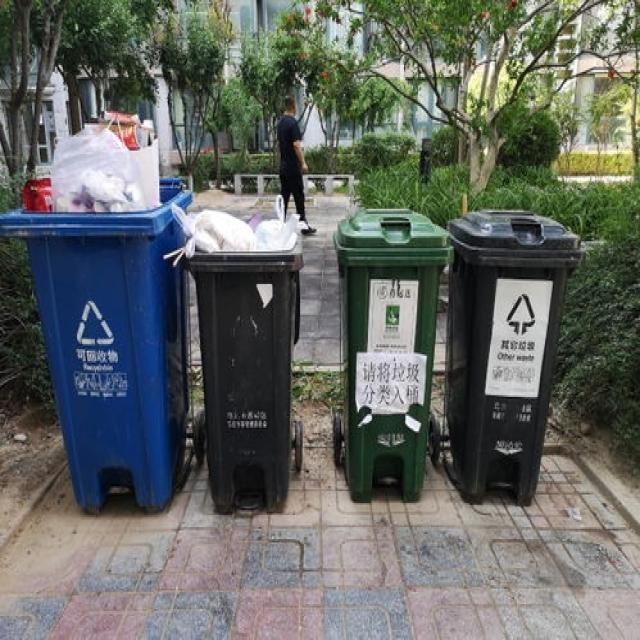garbage_bin: (441, 207, 584, 505), (334, 205, 452, 503)
overflow: (0, 110, 191, 512), (162, 193, 302, 512)
